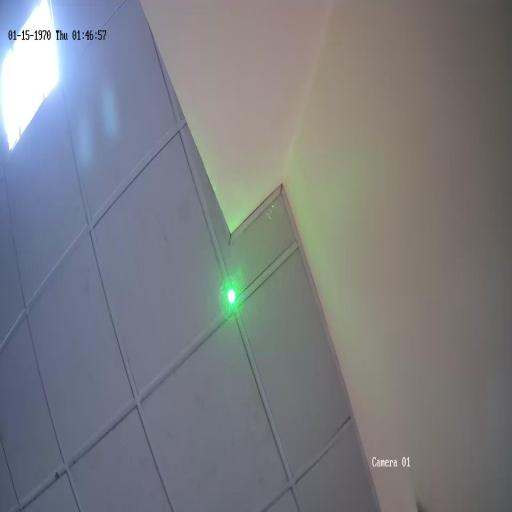laser: (217, 274, 244, 318)
